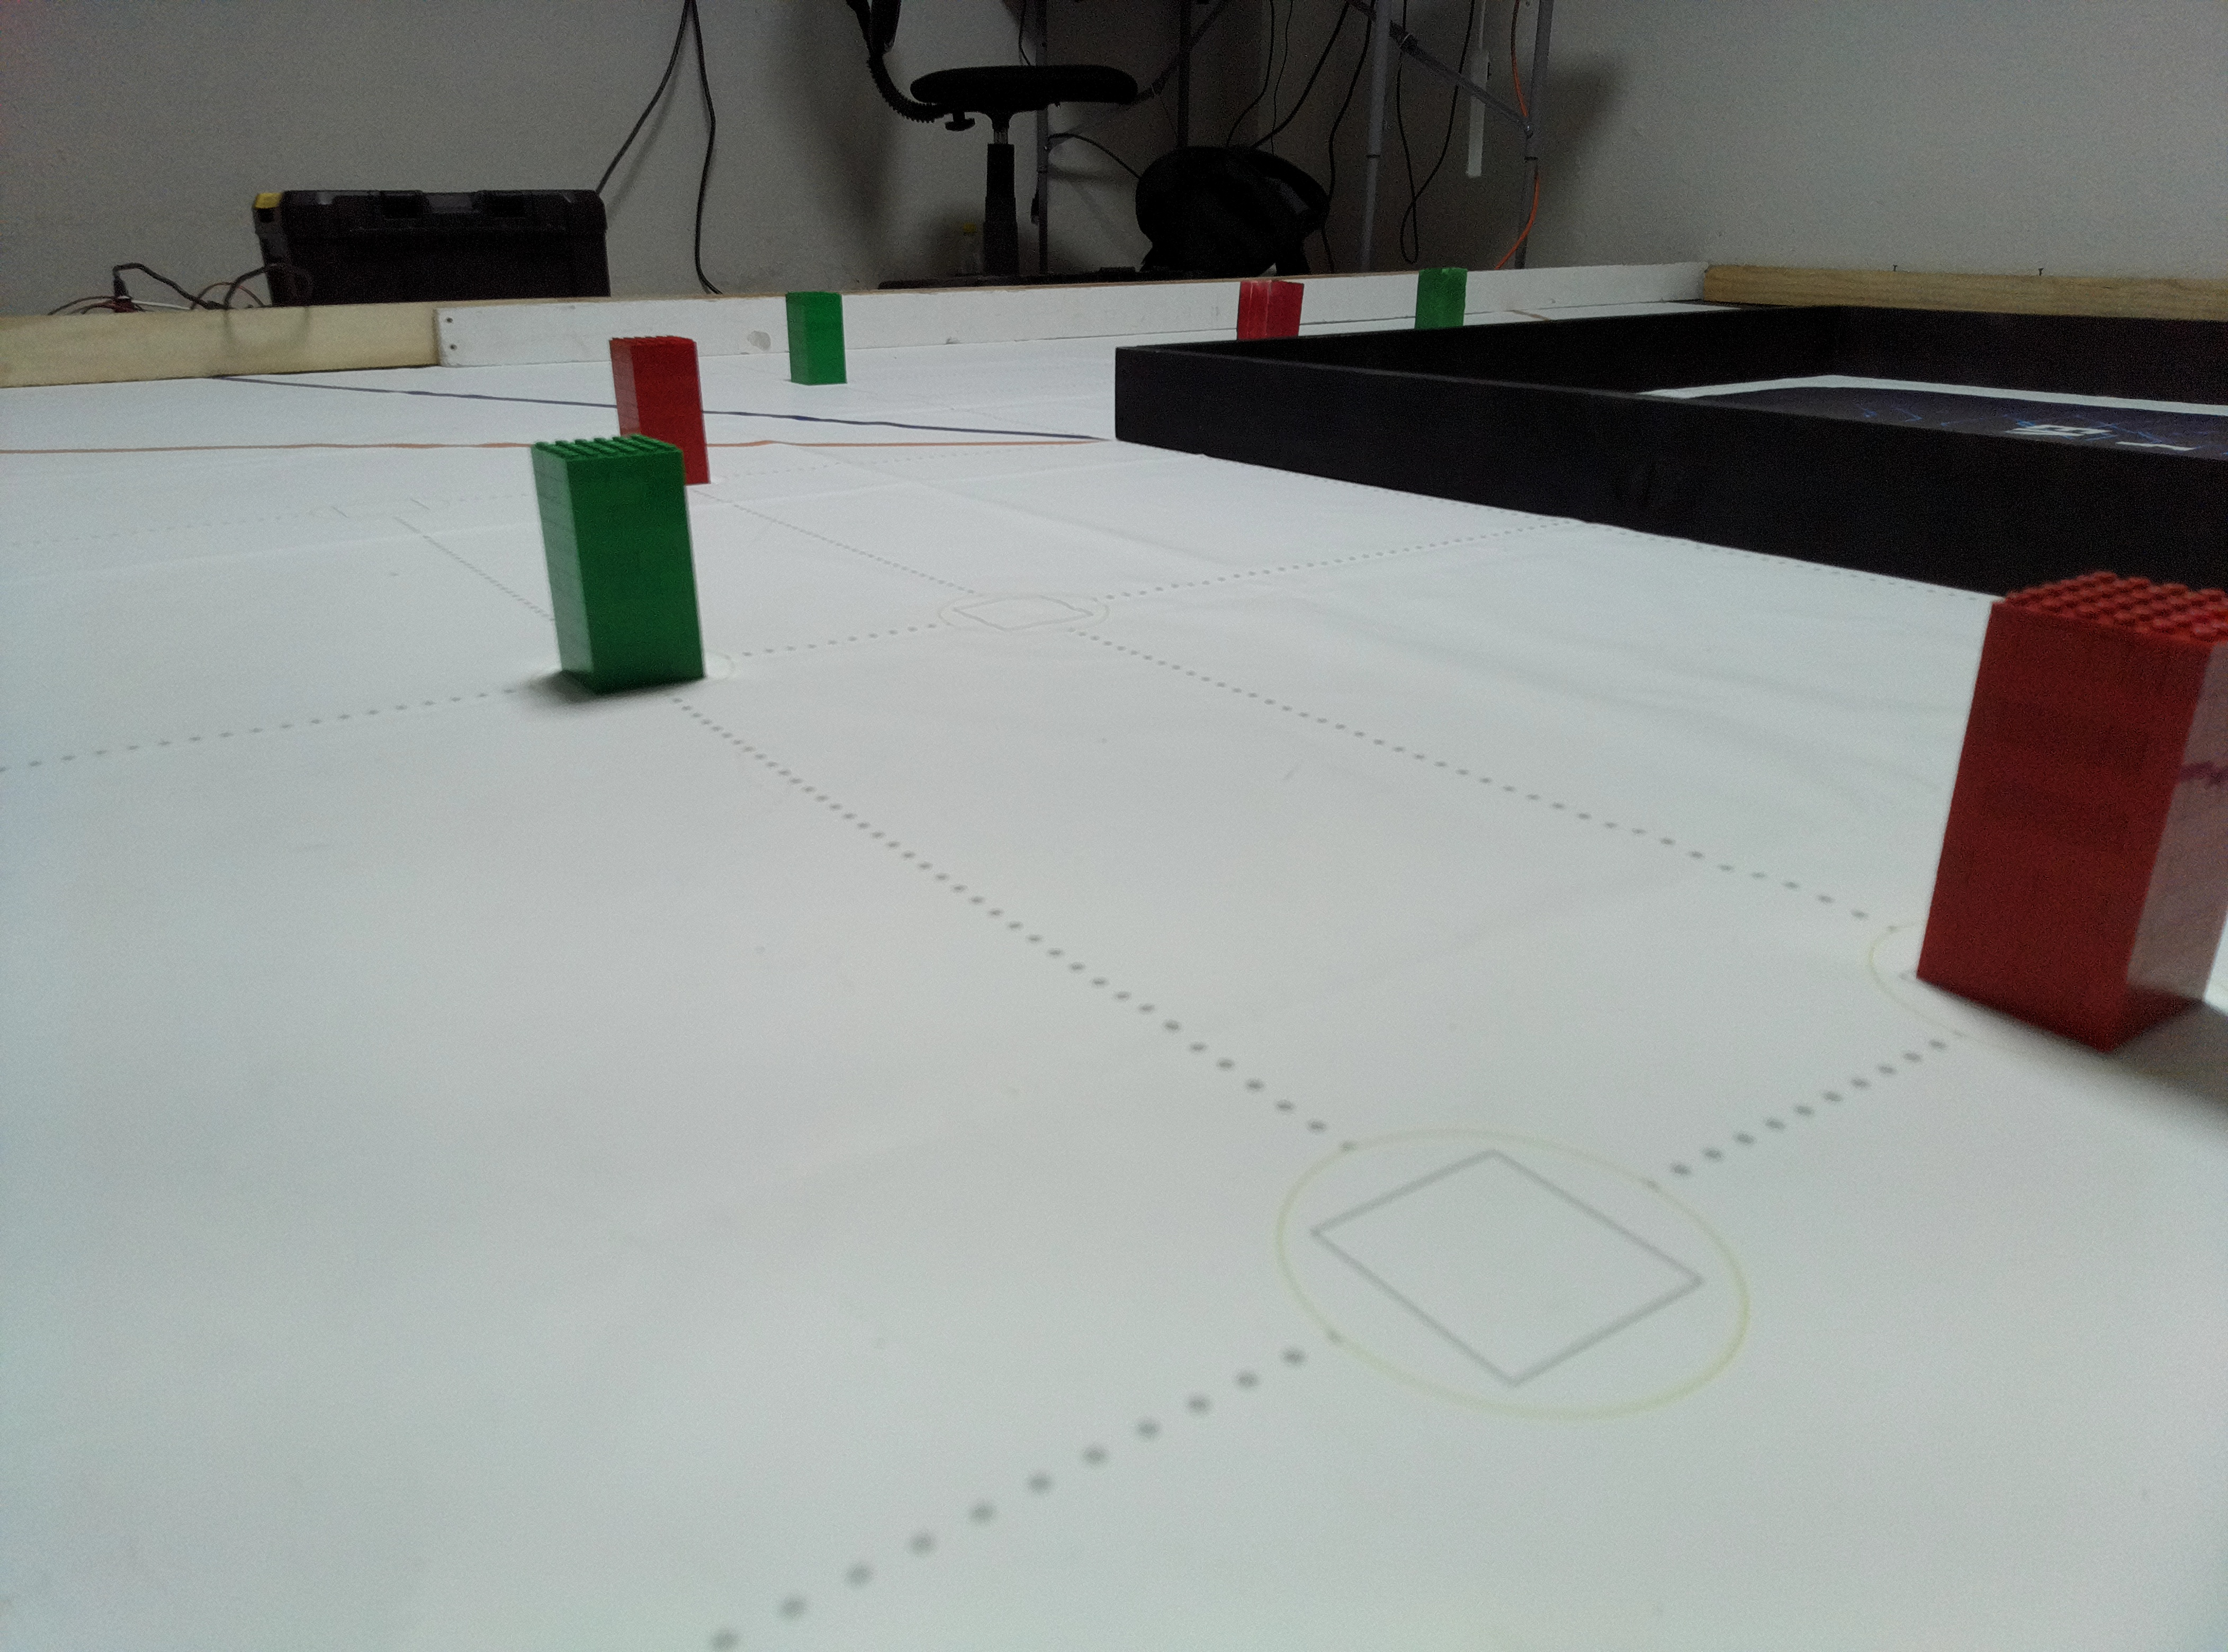greenbox: (528, 432, 706, 698), (784, 288, 849, 385), (1414, 267, 1466, 328)
redbox: (1907, 571, 2228, 1062), (604, 337, 711, 486), (1234, 279, 1308, 340)
